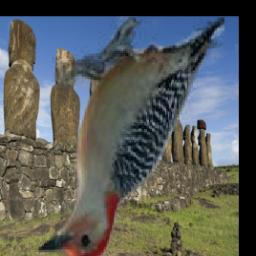Woodpecker: (33, 18, 224, 256)
